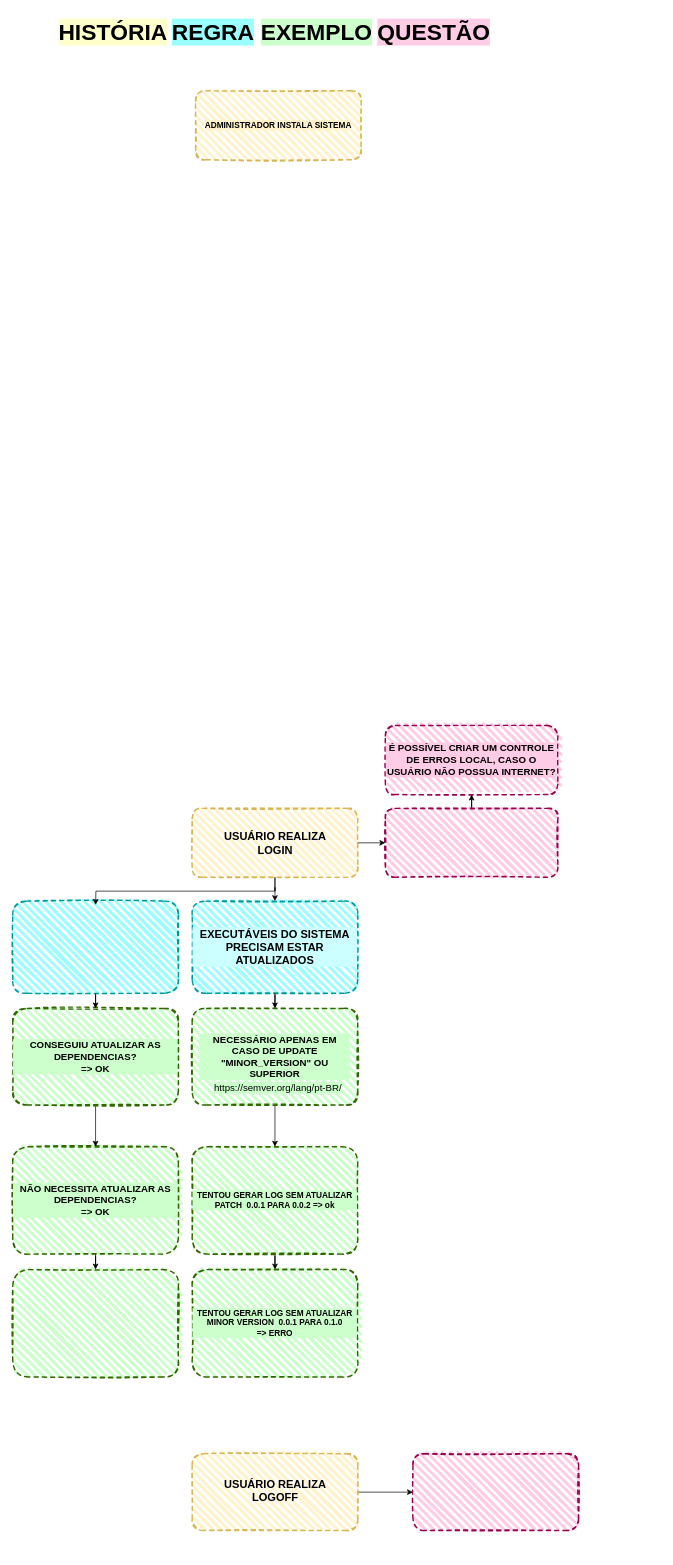
Image size: 673x1565. Some labels were removed from this diagram. The centre of each missing label's shape, as x and y in pixels:
AS DEPENDÊNCIAS DEVEM ESTAR ATUALIZADAS ANTES DE QUALQUER AÇÃO: (x=95, y=947)
NÃO CONSEGUE ATUALIZAR AS DEPENDENCIAS? => LOG_ERRO: (x=95, y=1322)
É NECESSÁRIO REALIZAR OS UPDATES DE DEPENDENCIA E VERSÃO?: (x=495, y=1492)
É POSSÍVEL REALIZAR AS AÇÕES EM PARALELO?: (x=471, y=842)
